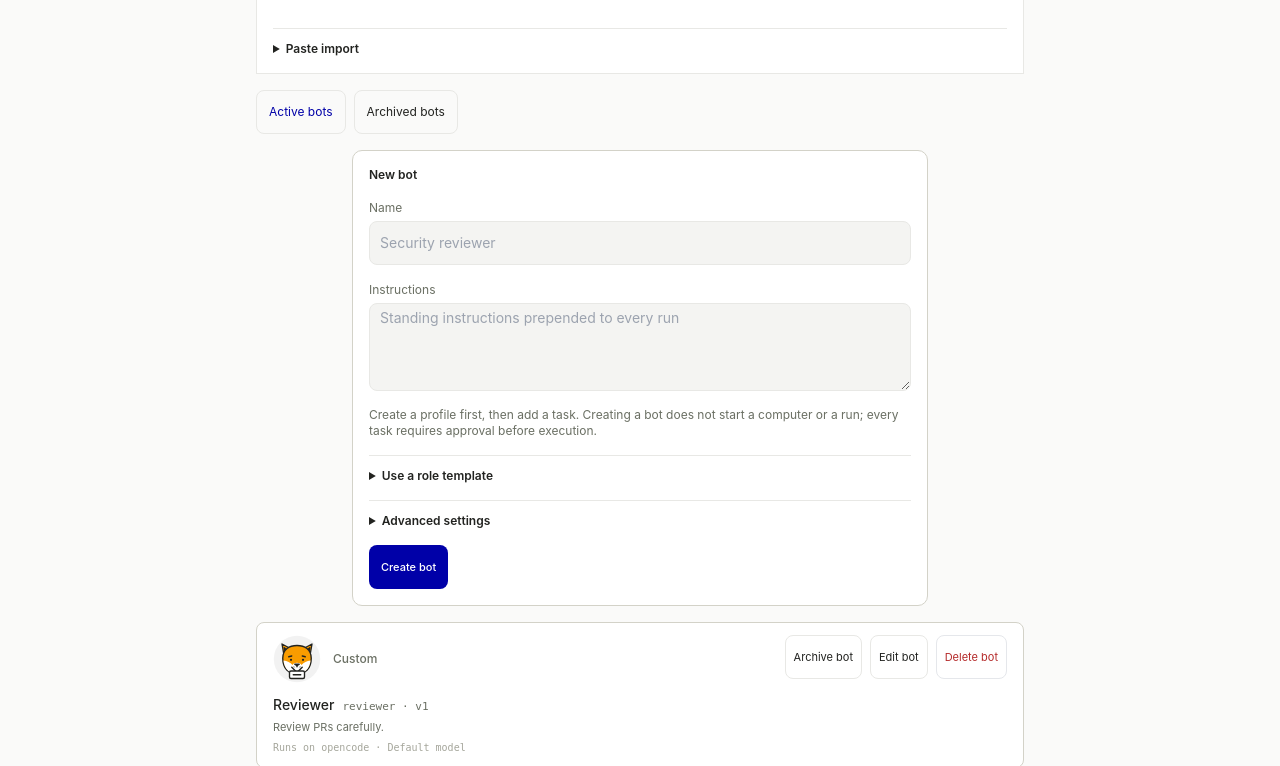
Test case: CustomAgentsView › asks before deleting and removes the row after the server accepts
The width and height of the screenshot is (1280, 766).
(page scrolled)
expect the text "Reviewer" is shown: met, box 273,696 -> 334,713
Click the button "Delete bot" at (971,657), box 936,635 -> 1007,679
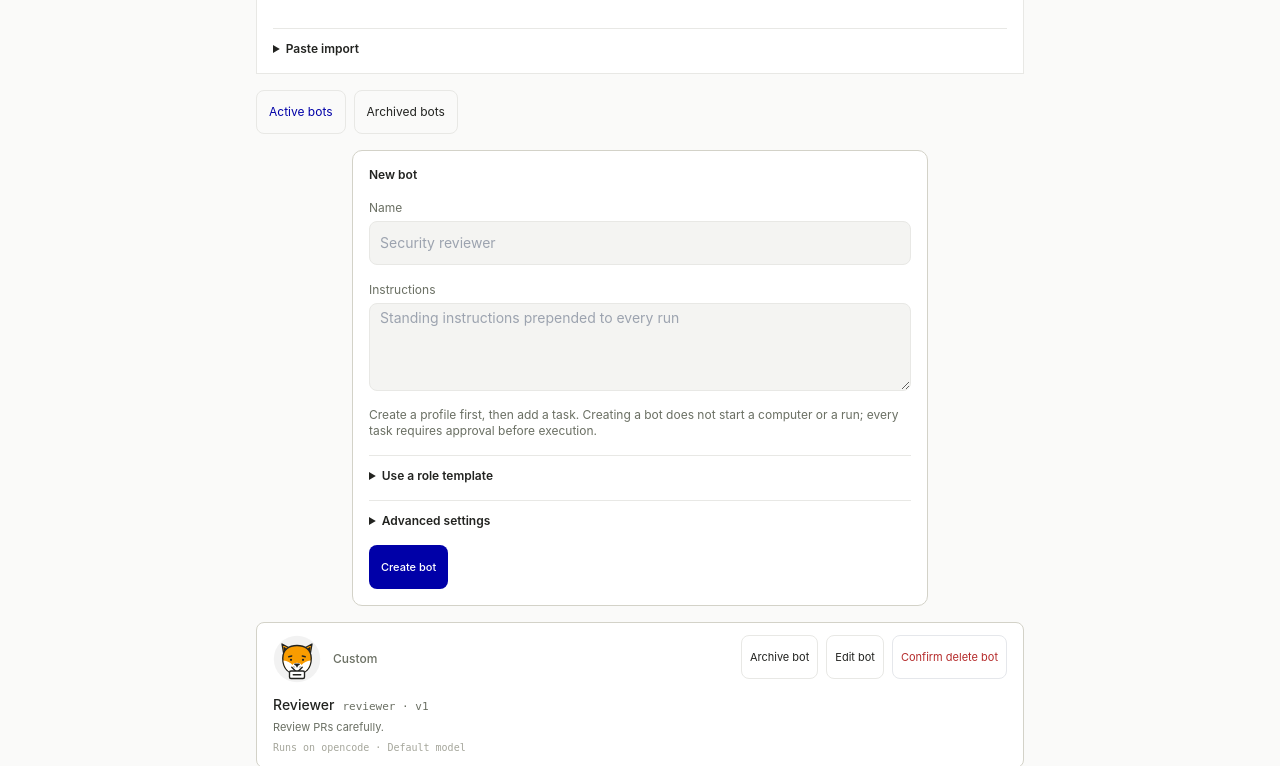
expect the button "Confirm delete bot" is shown: met
Click the button "Confirm delete bot" at (949,657), box 892,635 -> 1007,679
(page scrolled)
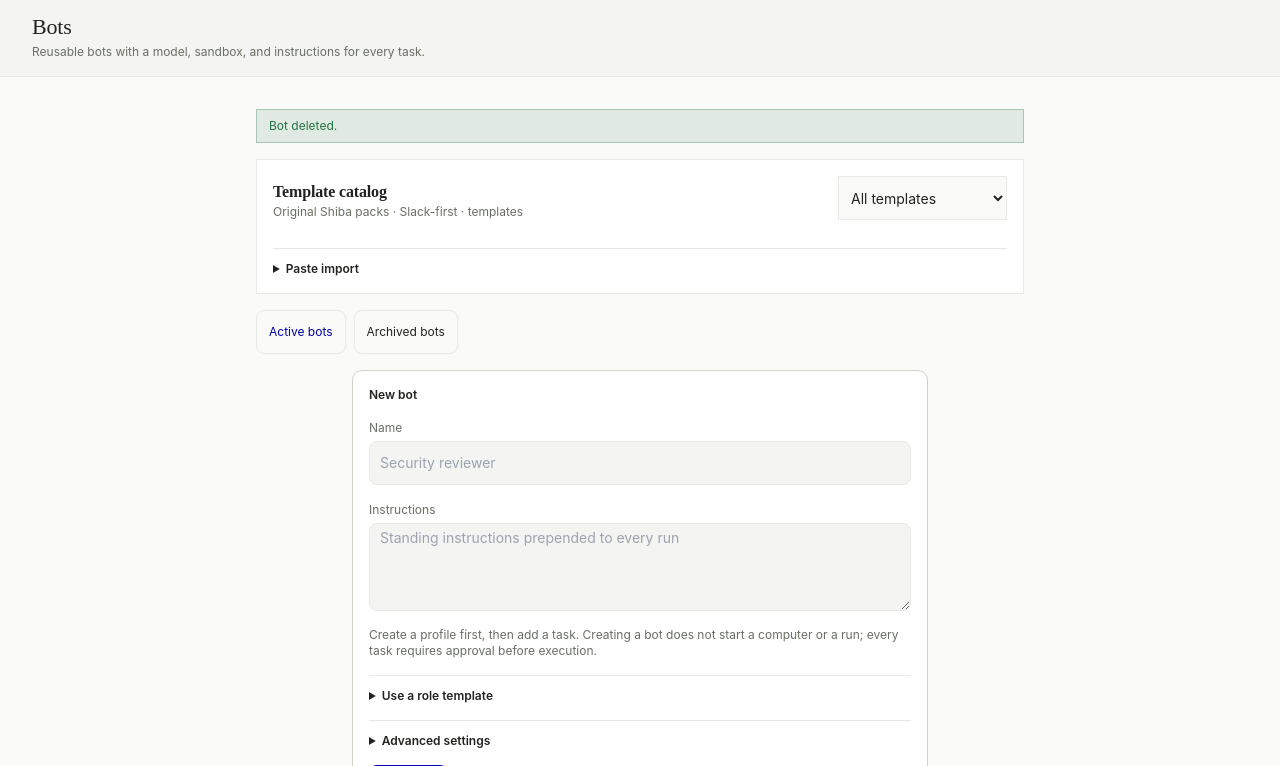
expect the text "Bot deleted." is shown: met, box 256,109 -> 1024,143
